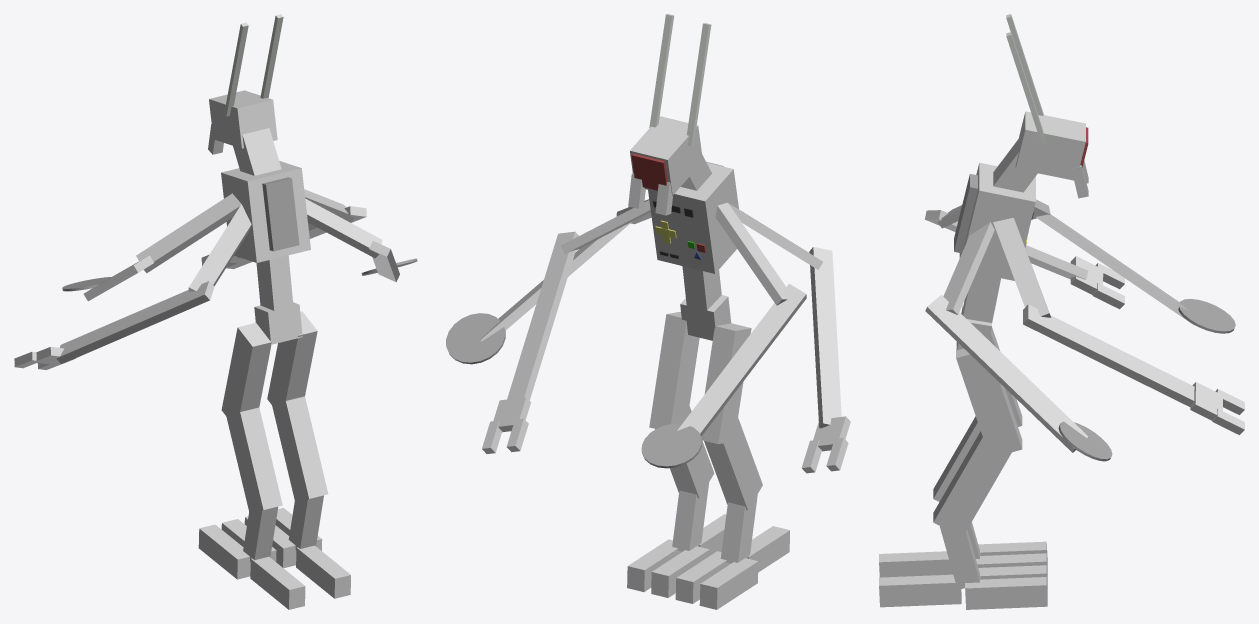
The model's file is Evil Robot.fbx.
3 renders of one model, left to right at view 1: azimuth 30°, elevation 25°; view 2: azimuth 150°, elevation 25°; view 3: azimuth 270°, elevation 25°, orthographic. The views are drawn at different scales.
Parts seen in each view (by area): view 1: pCube30 (×4), pCube61 (×3), pCube12, pCube50, pCube59, pCube60, pCube14, pCube49, pCube36, pCube58, pCube54, pCube27 (+8 smaller); view 2: pCube61 (×4), pCube12, pCube30 (×3), pCube49, pCube14, pCube59, pCube60, pCylinder2, pCylinder1, pCube56, pCube57, pCube51 (+12 smaller); view 3: pCube61 (×4), pCube30 (×2), pCube12, pCube49, pCube14, pCube50, pCube52, pCube54, pCube58, pCube62 (×2), pCube51, pCube27 (+10 smaller).
Boxes of the visible parts, x1,y1,x2,y2 form: pCube30 (×4): [136, 189, 382, 291]; pCube61 (×3): [56, 241, 399, 364]; pCube12: [221, 161, 310, 262]; pCube50: [272, 392, 328, 501]; pCube59: [224, 407, 282, 512]; pCube60: [221, 323, 271, 429]; pCube14: [209, 90, 277, 148]; pCube49: [267, 311, 317, 414]; pCube36: [262, 177, 299, 251]; pCube58: [250, 556, 305, 609]; pCube54: [296, 545, 350, 598]; pCube27: [256, 255, 293, 312]; pCube61 (×4): [480, 206, 841, 436]; pCube12: [648, 162, 738, 273]; pCube30 (×3): [561, 200, 822, 305]; pCube49: [649, 311, 699, 428]; pCube14: [630, 116, 702, 195]; pCube59: [704, 418, 762, 510]; pCube60: [701, 323, 751, 444]; pCylinder2: [446, 313, 505, 364]; pCylinder1: [641, 423, 702, 468]; pCube56: [699, 558, 758, 609]; pCube57: [721, 494, 757, 563]; pCube51: [672, 482, 709, 551]; pCube61 (×4): [924, 210, 1194, 452]; pCube30 (×2): [943, 218, 1050, 317]; pCube12: [959, 162, 1035, 280]; pCube49: [956, 348, 1022, 458]; pCube14: [1015, 111, 1085, 180]; pCube50: [933, 431, 1011, 536]; pCube52: [965, 577, 1047, 609]; pCube54: [879, 574, 961, 607]; pCube58: [879, 551, 953, 577]; pCube62 (×2): [1070, 256, 1222, 420]; pCube51: [939, 526, 980, 589]; pCube27: [963, 273, 1000, 322].
Size of the model in its own units: 22.74 by 30.44 by 17.76.
